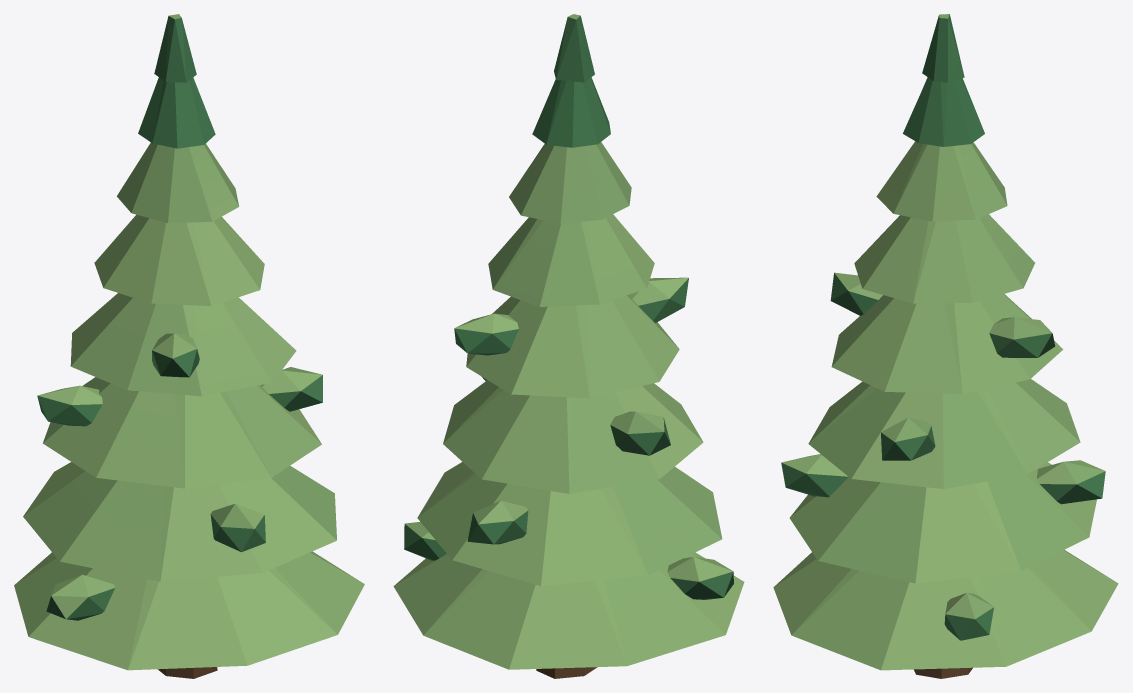
The picture shows the model from 3 angles, left to right: view 1: azimuth 30°, elevation 25°; view 2: azimuth 150°, elevation 25°; view 3: azimuth 270°, elevation 25°; orthographic projection.
Parts seen in each view (by area): view 1: WK_Tree_Spruce_DeepNarrow_LOD1_Balanced; view 2: WK_Tree_Spruce_DeepNarrow_LOD1_Balanced; view 3: WK_Tree_Spruce_DeepNarrow_LOD1_Balanced.
Part boxes in pixels (x1=…): WK_Tree_Spruce_DeepNarrow_LOD1_Balanced: x1=14, y1=14, x2=364, y2=678; WK_Tree_Spruce_DeepNarrow_LOD1_Balanced: x1=393, y1=14, x2=744, y2=678; WK_Tree_Spruce_DeepNarrow_LOD1_Balanced: x1=773, y1=14, x2=1118, y2=678.
Size of the model in its own units: 3.83 by 7.78 by 3.77.
